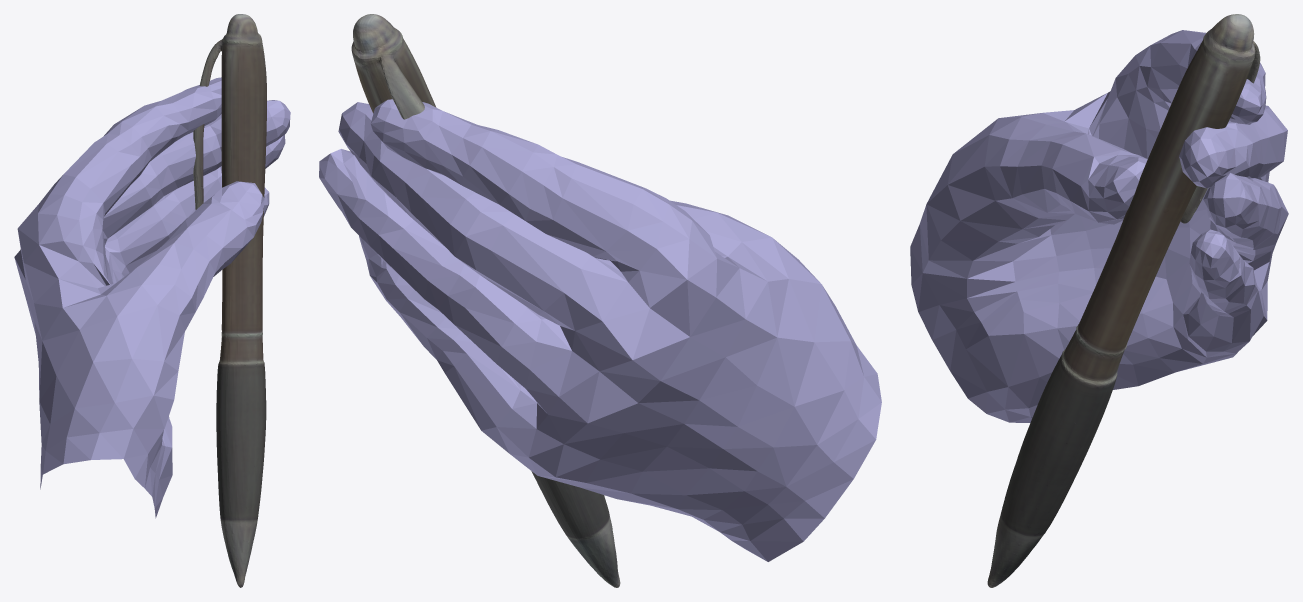
Rendered from frame_0002_source_000002_hand_object.glb.
3 views of the same model, side by side, from view 1: azimuth 30°, elevation 25°; view 2: azimuth 150°, elevation 25°; view 3: azimuth 270°, elevation 25° (orthographic). The views are drawn at different scales.
Visible parts, largest first — view 1: world; view 2: world; view 3: world.
Part boxes in pixels (x1,y1,x2,y2): world: [14, 14, 290, 587]; world: [319, 14, 881, 587]; world: [910, 14, 1288, 587].
Bounding box in the file's own units: 0.1283 × 0.1777 × 0.0964.
